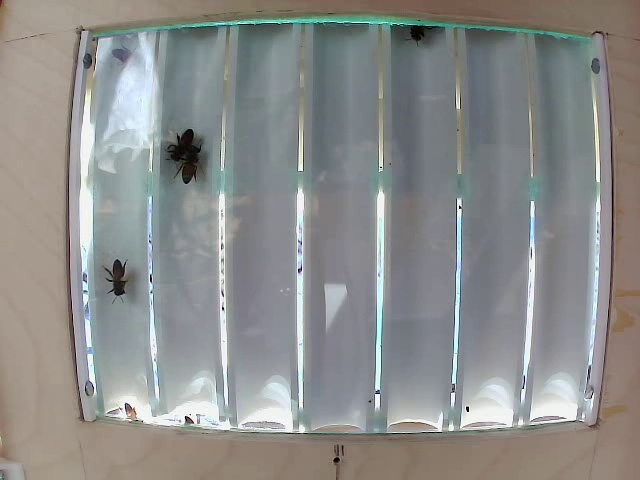bee: (97, 254, 144, 306), (171, 128, 205, 193)
